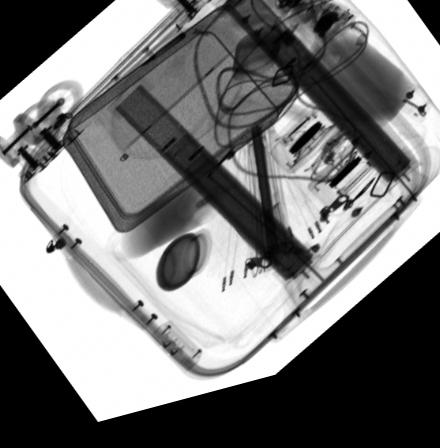Bullet: (136, 41, 185, 76)
